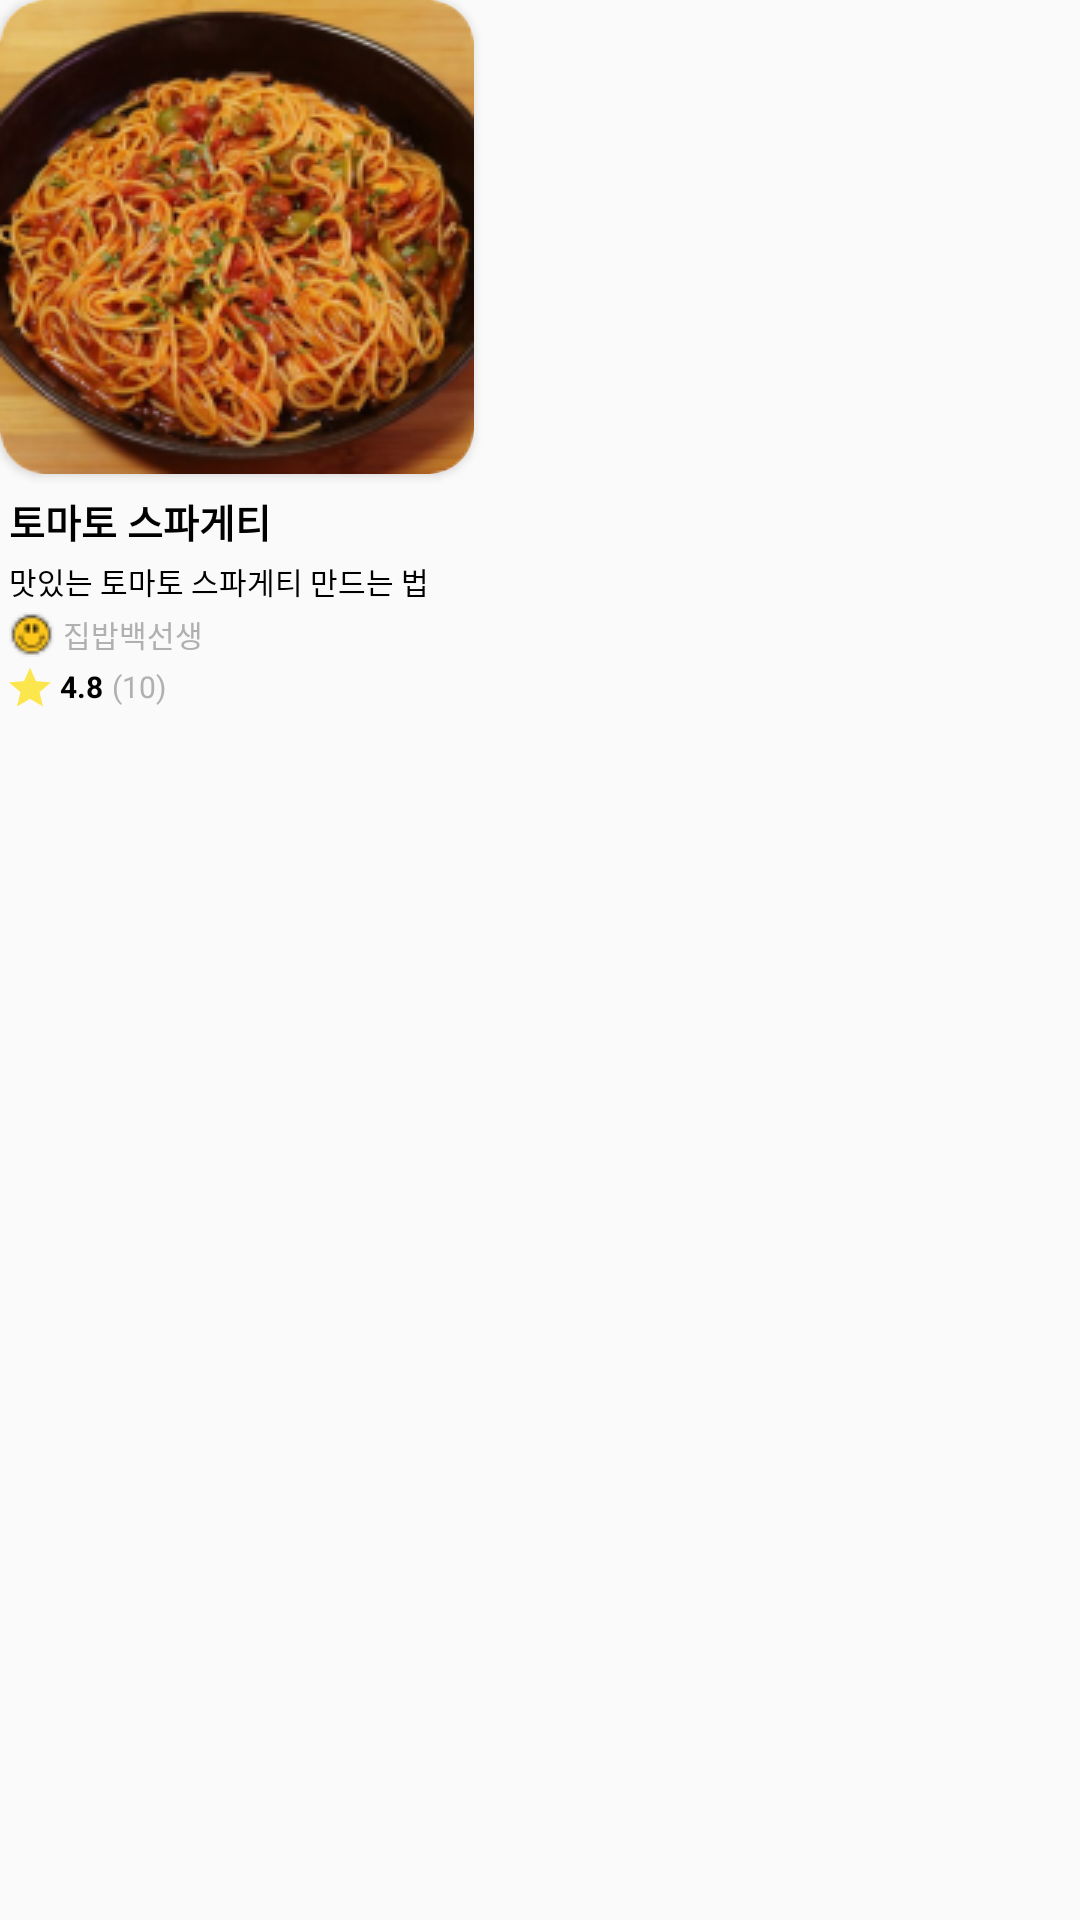

Screen size 1080×1920. Icon name, then its center in pixels as point (x, y):
star: point (30, 687)
